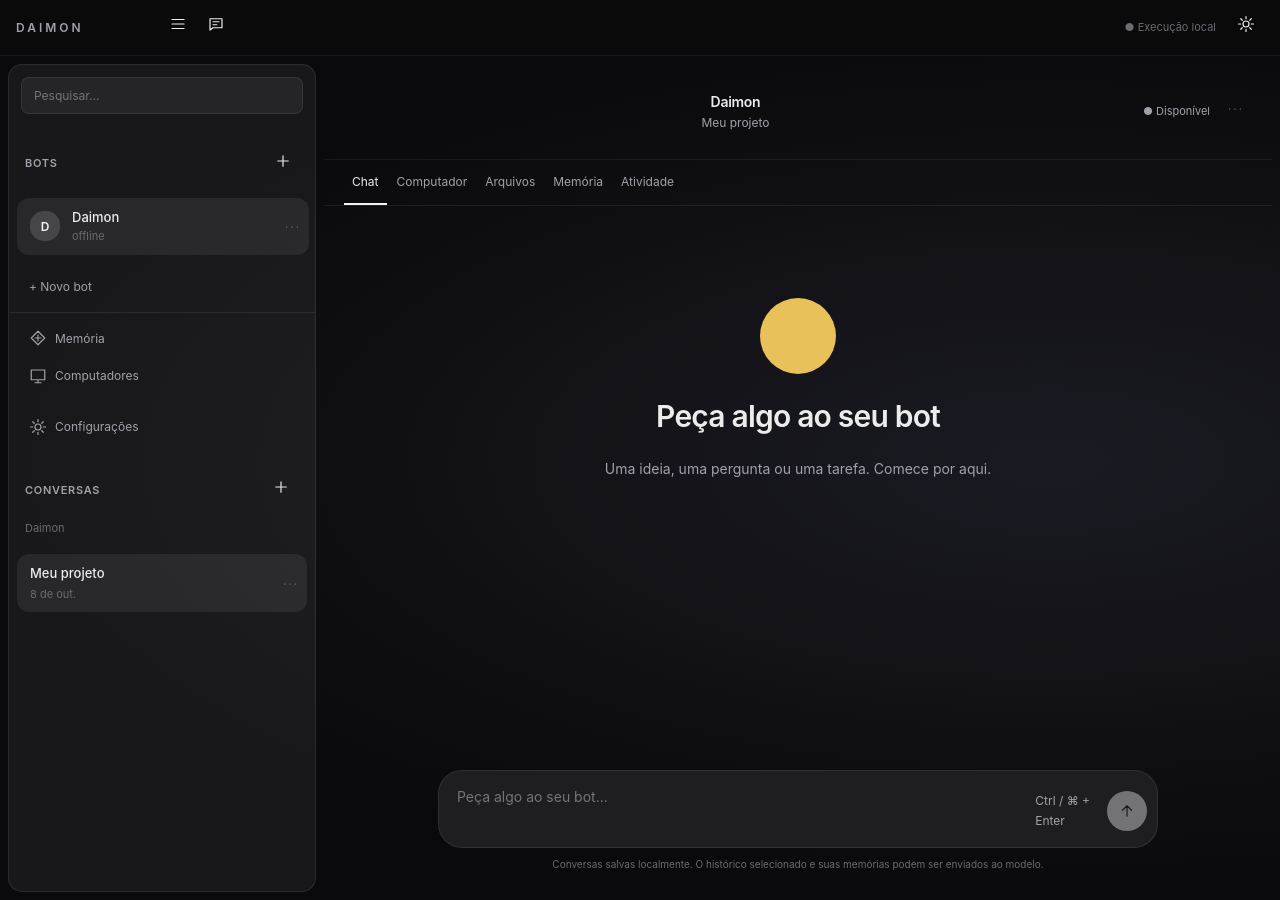
Test: collapses bots independently while leaving conversation actions reachable
This screenshot has width=1280, height=900.
Expected: the button "Meu projeto 8 de out." is shown, [17, 554, 307, 612]
Expected: the heading "Daimon" is shown, [711, 93, 760, 110]
Click the button named "Recolher bots" at (178, 28), box [160, 10, 196, 46]
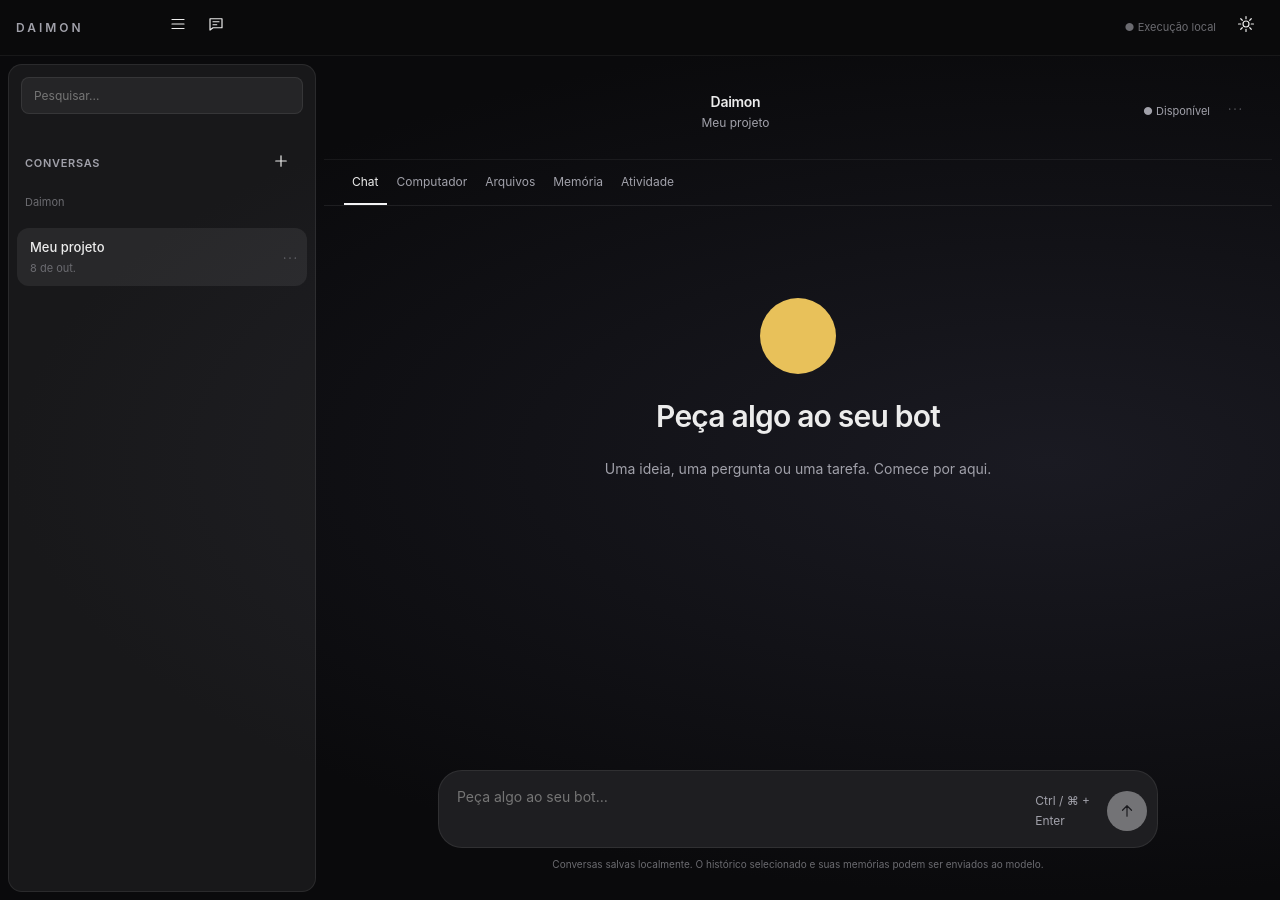
Expected: the navigation bar "Conversas" is shown, [17, 146, 307, 286]
Expected: the heading "Bots" is gone
